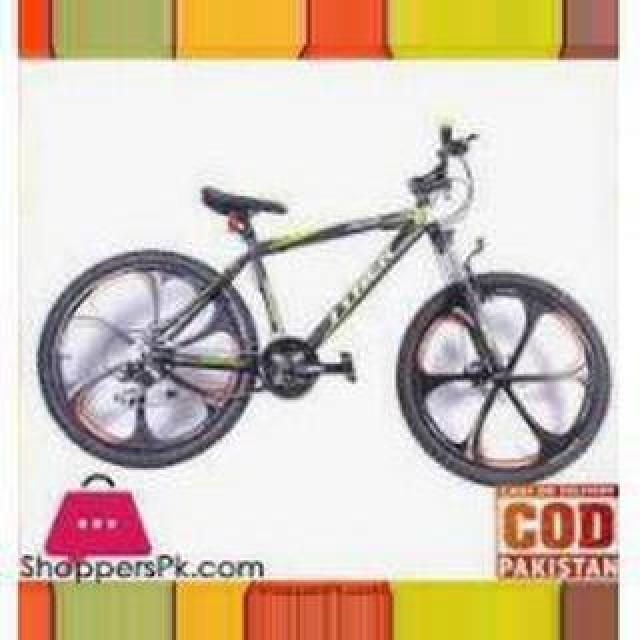Person: (34, 124, 612, 488)
